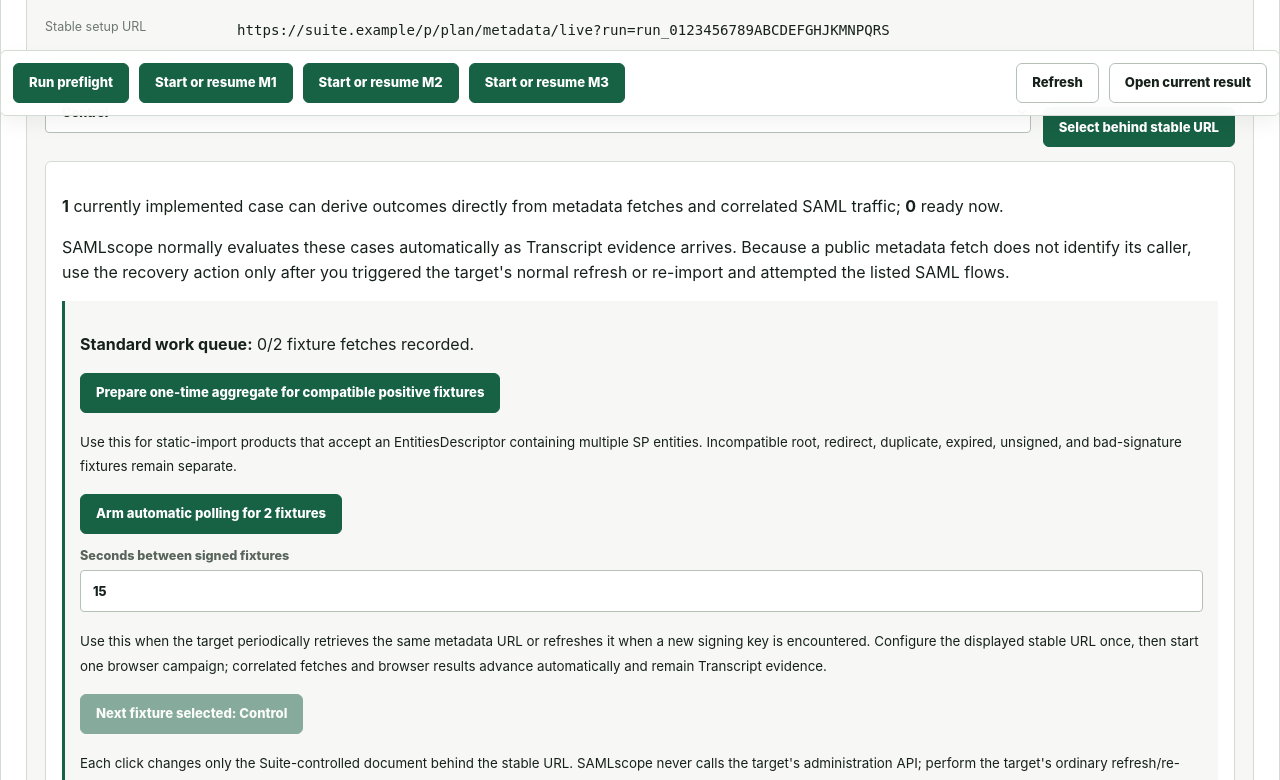
Test case: offers one aggregate import for compatible positive metadata fixtures
The image size is (1280, 780).
(page scrolled)
Click the button "Prepare one-time aggregate for compatible positive fixtures": [290, 393] box [80,373,500,413]
(page scrolled)
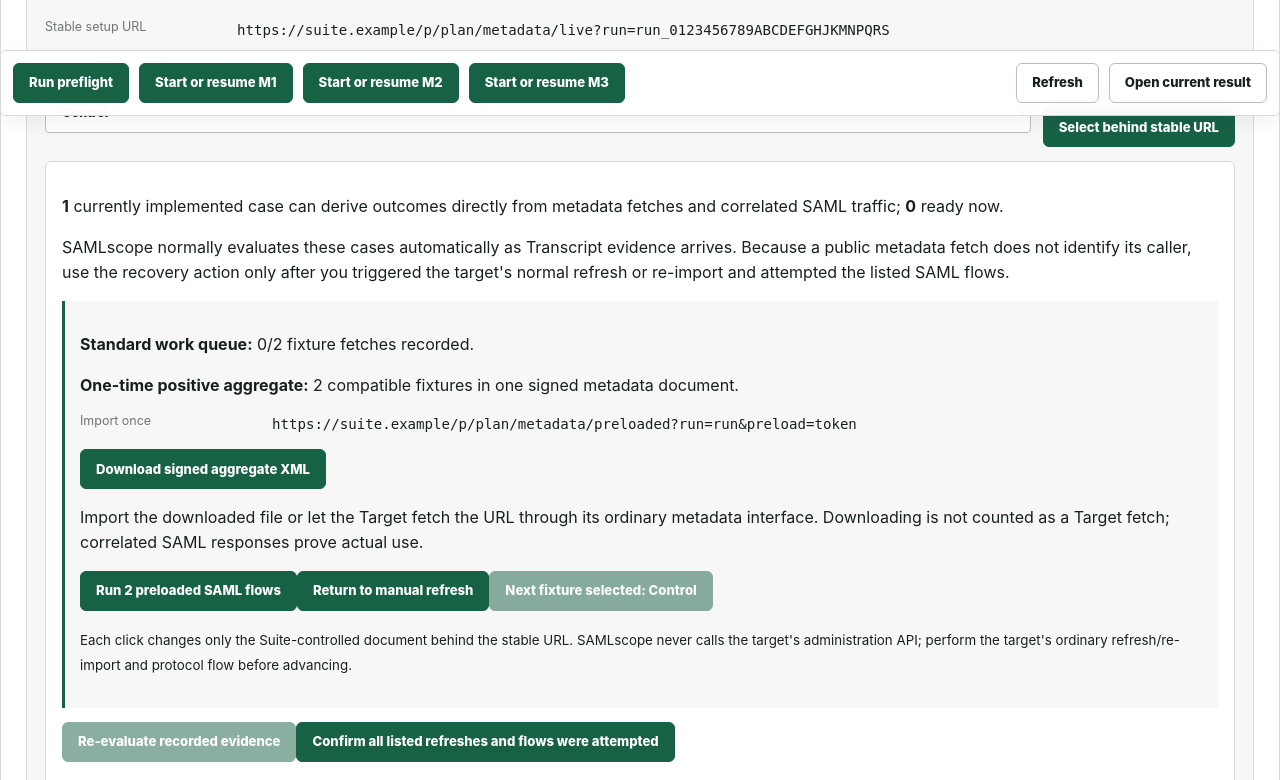
Expected: the text "metadata/preloaded?run=run&preload=token" is shown, [272,416,857,432]
